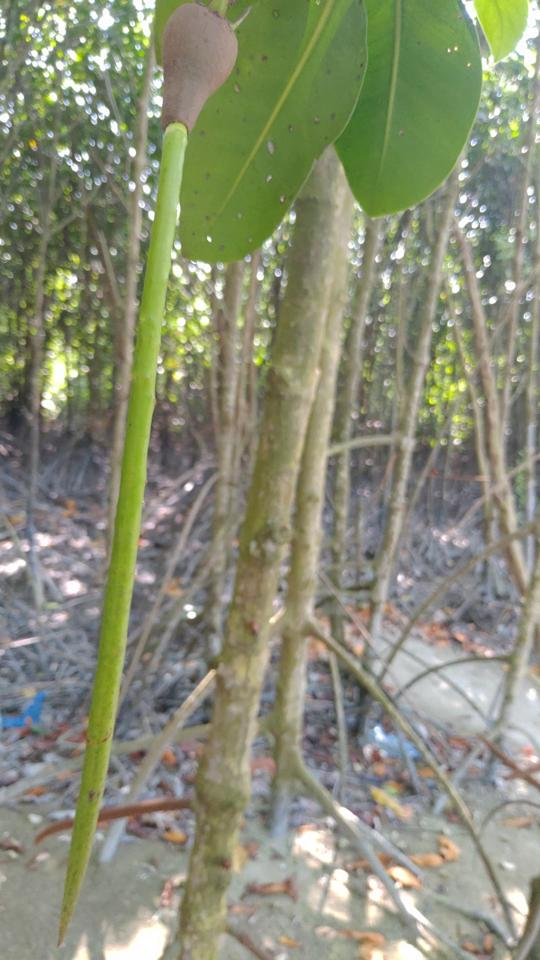setengah matang: (50, 1, 256, 951)
